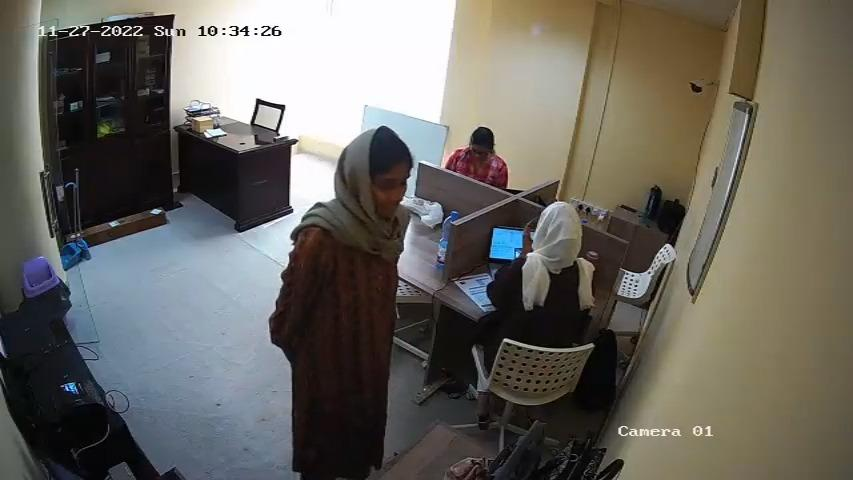no_apron: (301, 221, 389, 421)
